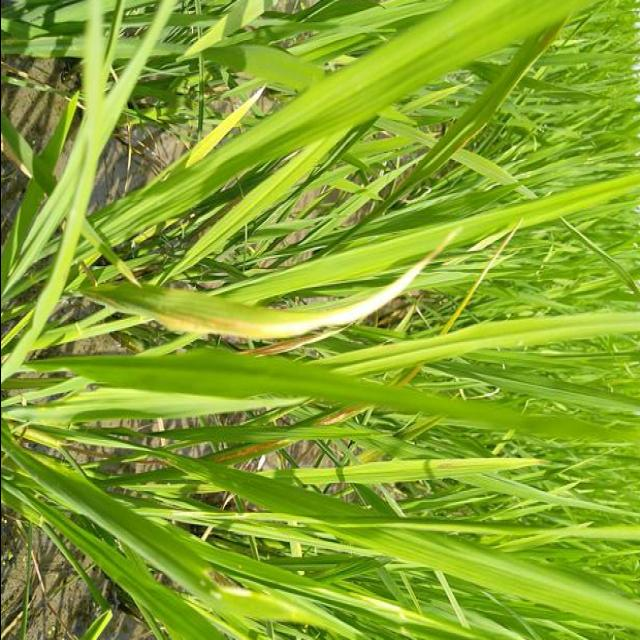Leaf Blight: (75, 234, 451, 339), (442, 229, 514, 334), (198, 441, 291, 463), (241, 338, 314, 356), (313, 406, 373, 426), (393, 366, 420, 389)
